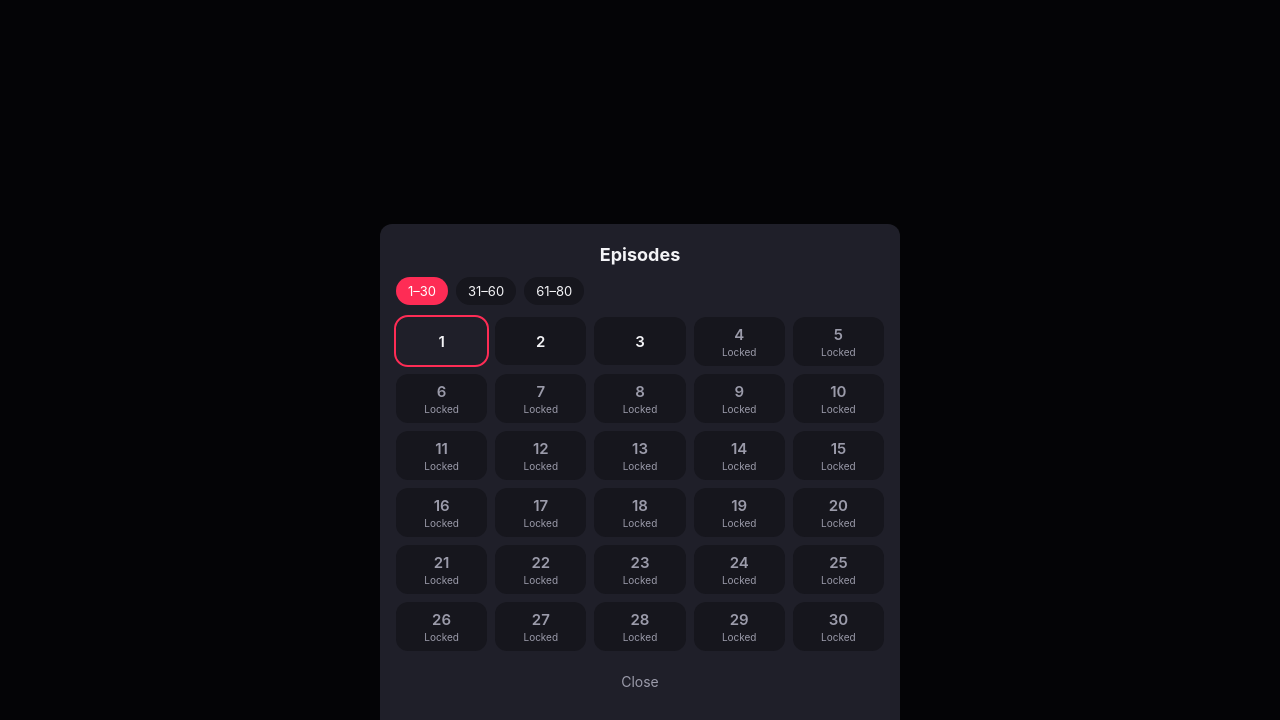
groups of thirty › switches groups without refetching
Click the tab with test id "episode-picker-group" showing "31–60" at (486, 291), box top-left (456, 277), bottom-right (516, 305)
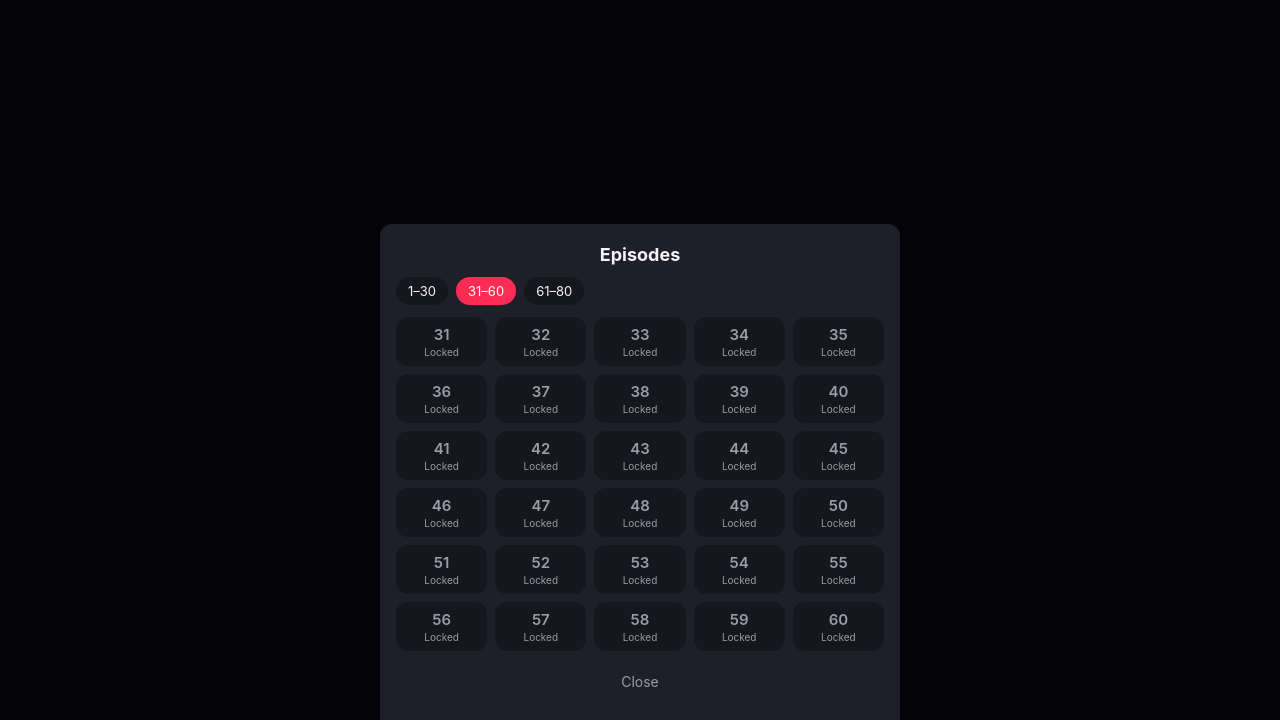
Result: the element with test id "episode-picker-cell" shows "31" at top-left (434, 325), bottom-right (450, 344)
